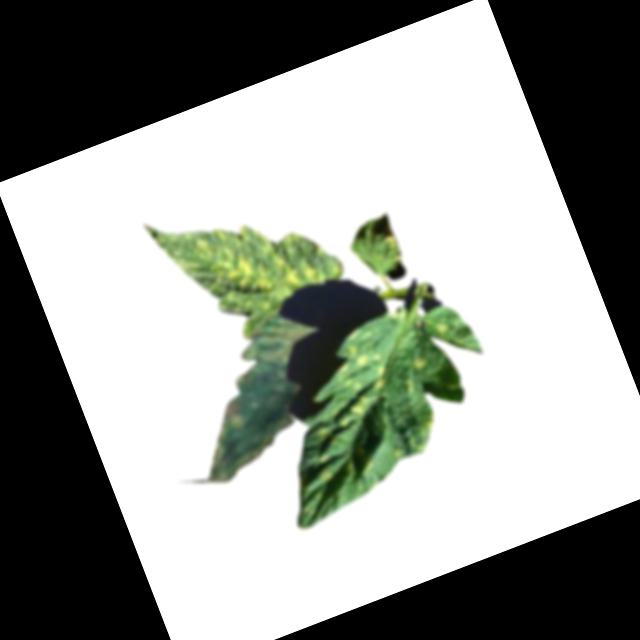Leaf_Mold: (254, 318, 450, 522), (143, 162, 347, 344), (162, 306, 343, 486), (408, 346, 438, 377), (432, 317, 455, 342)
